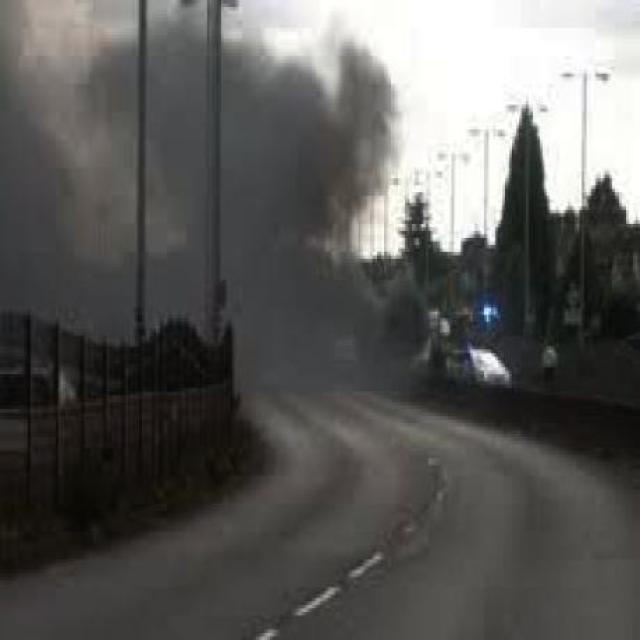Smoke: (223, 25, 442, 389), (3, 4, 161, 323)
